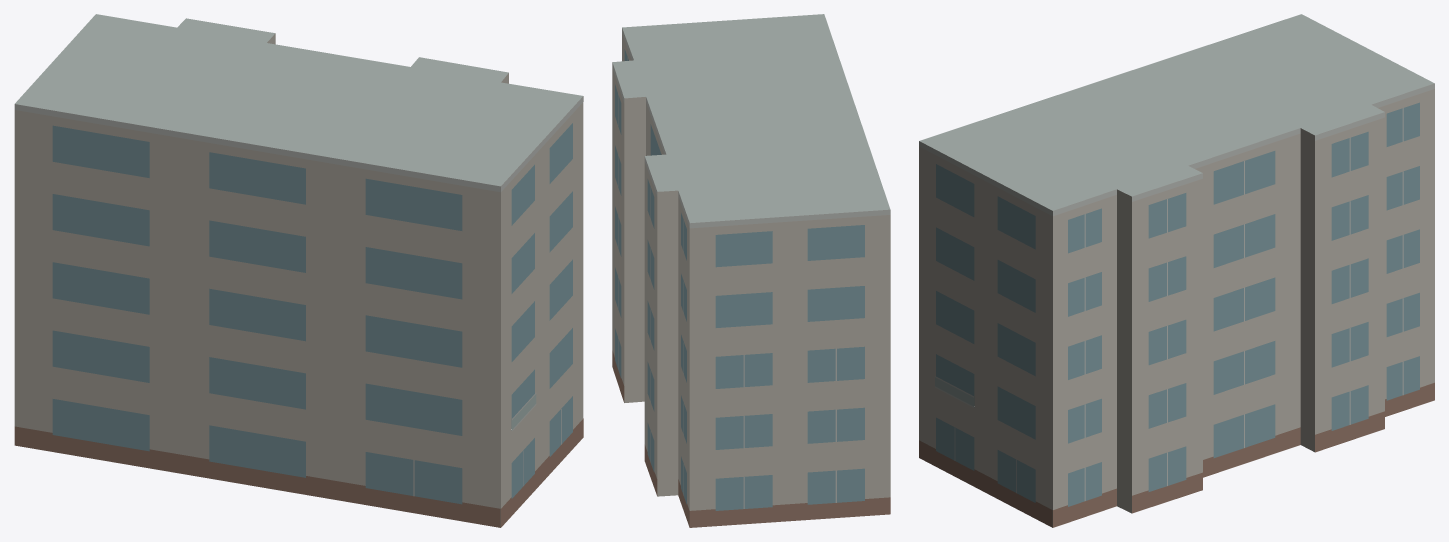
The model's file is survey-upis-32673063.glb.
3 renders of one model, left to right at view 1: azimuth 30°, elevation 25°; view 2: azimuth 150°, elevation 25°; view 3: azimuth 270°, elevation 25°, orthographic. The views are drawn at different scales.
Parts seen in each view (by area): view 1: survey-upis-32673063.tmp; view 2: survey-upis-32673063.tmp; view 3: survey-upis-32673063.tmp.
Boxes of the visible parts, bbox=[...] form: survey-upis-32673063.tmp: bbox=[14, 14, 583, 527]; survey-upis-32673063.tmp: bbox=[612, 14, 890, 527]; survey-upis-32673063.tmp: bbox=[919, 14, 1434, 527].
Bounding box in the file's own units: 18.93 × 14.2 × 20.95.
